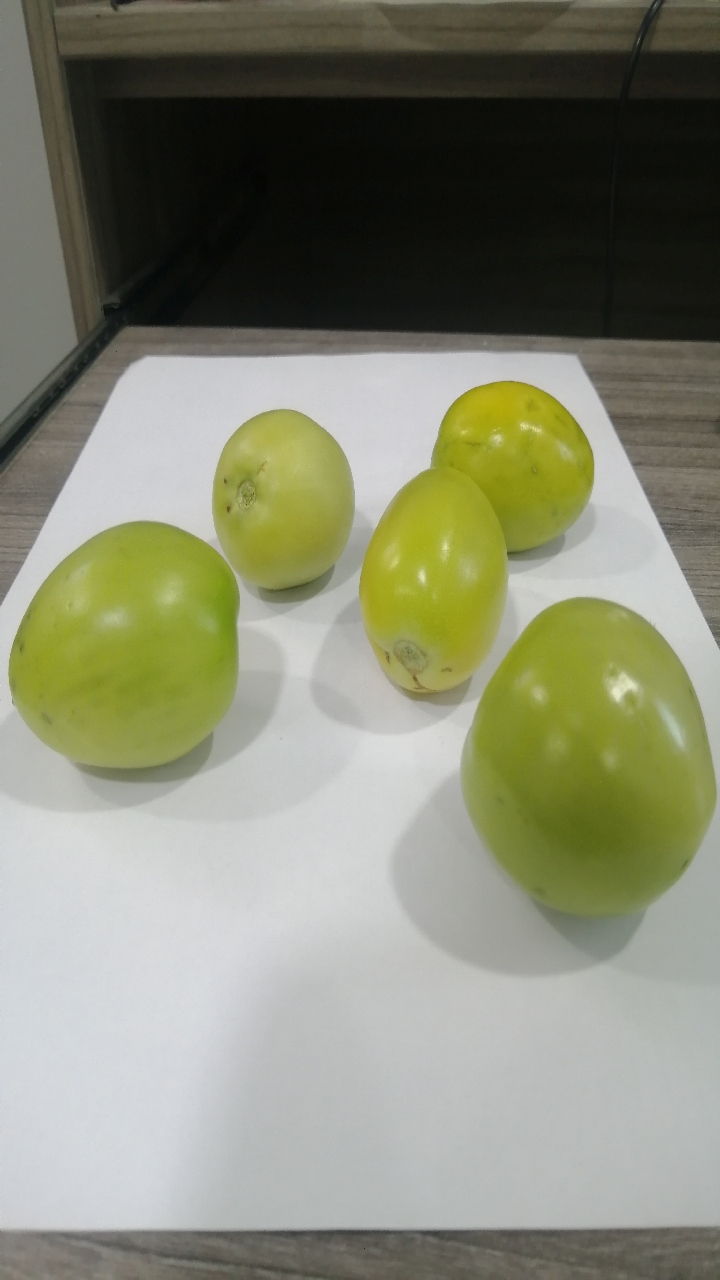tomateVerde: (458, 569, 720, 929), (9, 506, 261, 797), (395, 320, 648, 546), (337, 437, 509, 711), (212, 383, 364, 602)
